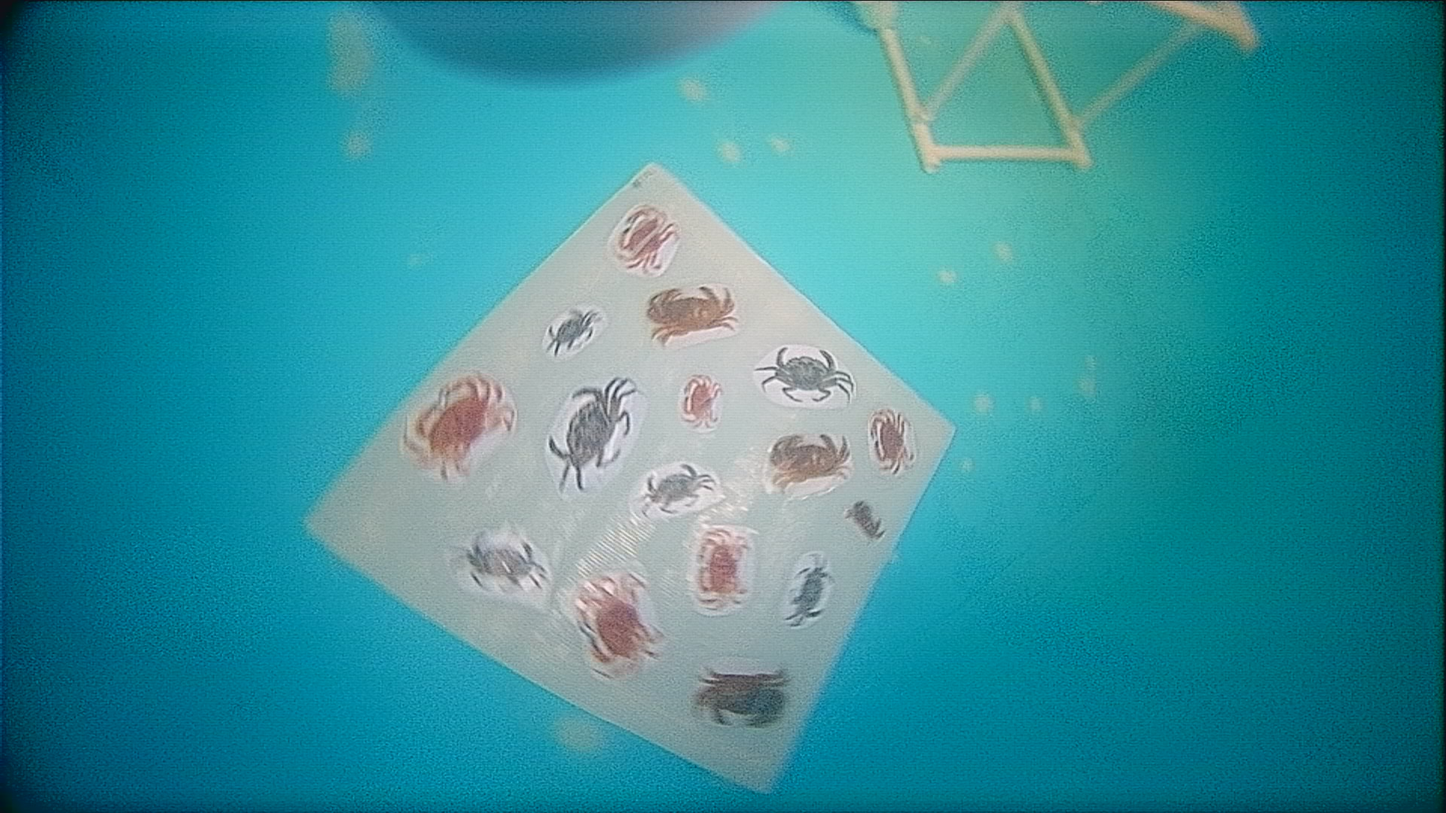GreenCrab: (549, 378, 636, 489), (755, 347, 852, 402), (548, 309, 602, 355)
